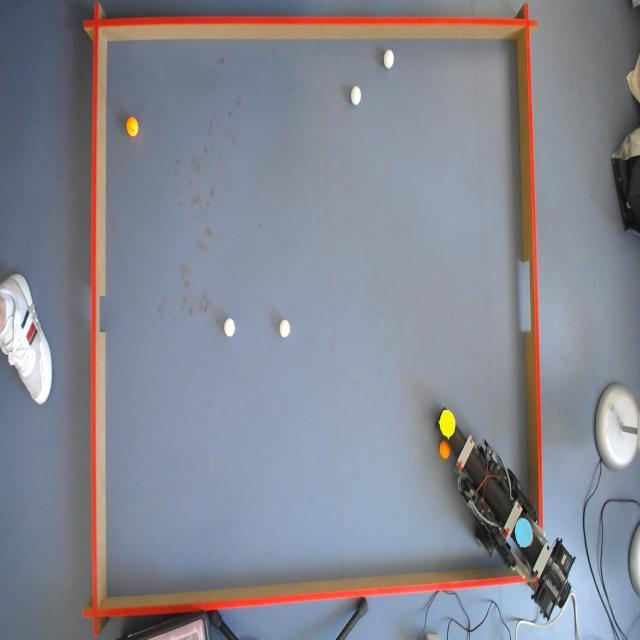orange: (127, 117, 141, 138)
robot: (438, 407, 566, 614)
robot-front: (439, 411, 457, 434)
robot-rear: (513, 514, 533, 550)
white: (348, 86, 361, 108), (224, 316, 237, 336), (278, 318, 290, 338), (440, 440, 452, 459), (382, 50, 393, 70)
